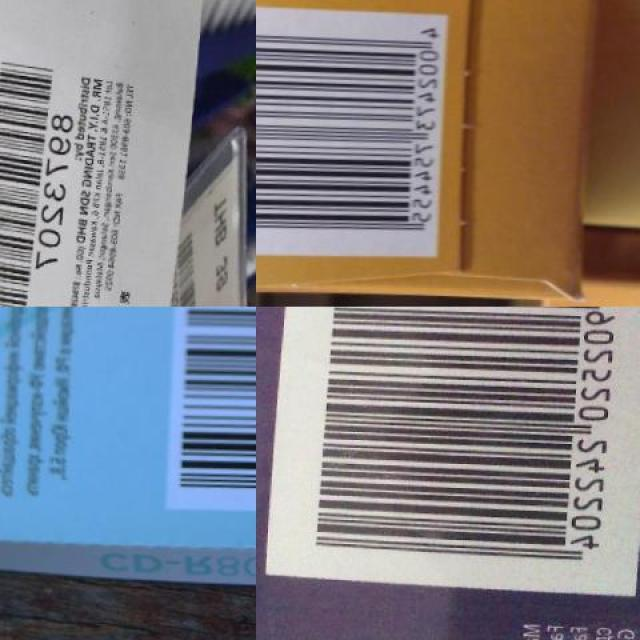Barcode: (280, 306, 640, 582), (256, 1, 448, 259), (0, 36, 87, 307), (165, 306, 256, 514)
